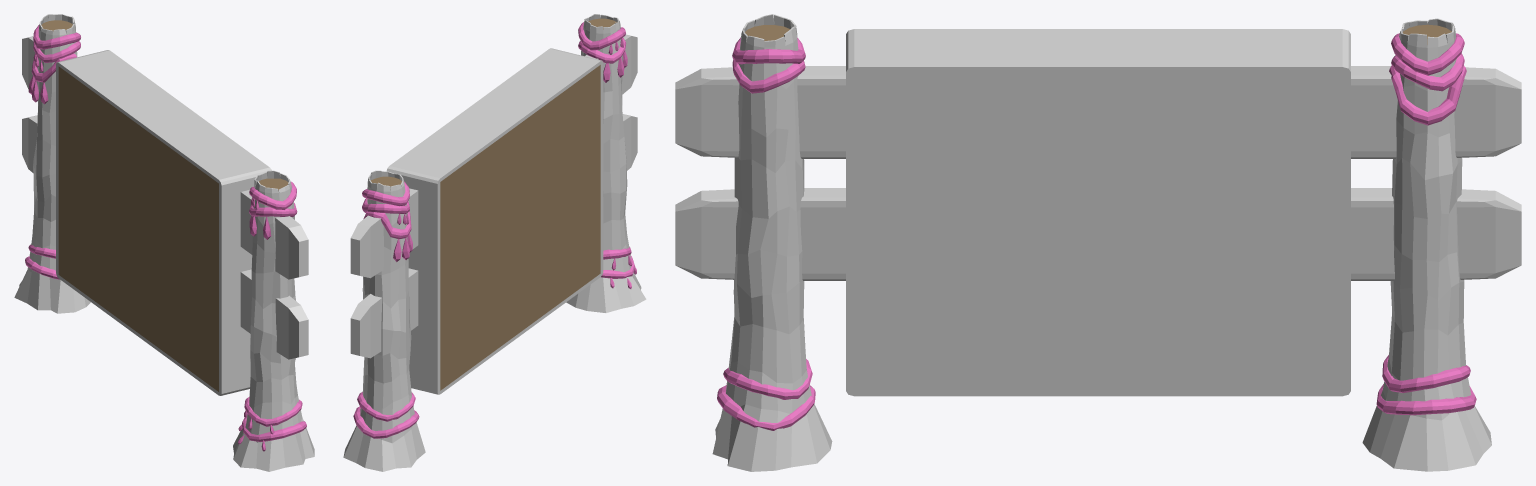
Rendered from TablonAnuncios.fbx.
3 views of the same model, side by side, from view 1: azimuth 30°, elevation 25°; view 2: azimuth 150°, elevation 25°; view 3: azimuth 270°, elevation 25° (orthographic). The views are drawn at different scales.
Parts seen in each view (by area): view 1: Cube, Cylinder, Cylinder.001, Cube.003, Cube.001, Torus.006, Torus.007, Torus.001, Torus, Torus.002, Torus.005, Torus.008; view 2: Cube, Cylinder.001, Cylinder, Cube.001, Cube.003, Torus.003, Torus.004, Torus.001, Torus, Torus.008, Torus.002, Torus.005; view 3: Cube, Cylinder, Cylinder.001, Cube.001, Cube.003, Torus.008, Torus.003, Torus.004, Torus.006, Torus, Torus.001, Torus.007 (+2 smaller).
Boxes of the visible parts, x1=… form: Cube: x1=56, y1=50, x2=271, y2=395; Cylinder: x1=233, y1=170, x2=314, y2=471; Cylinder.001: x1=14, y1=14, x2=90, y2=313; Cube.003: x1=22, y1=115, x2=308, y2=359; Cube.001: x1=22, y1=36, x2=308, y2=279; Torus.006: x1=242, y1=417, x2=306, y2=441; Torus.007: x1=244, y1=396, x2=302, y2=426; Torus.001: x1=249, y1=181, x2=296, y2=209; Torus: x1=33, y1=24, x2=80, y2=49; Torus.002: x1=33, y1=41, x2=80, y2=62; Torus.005: x1=249, y1=203, x2=297, y2=216; Torus.008: x1=31, y1=53, x2=76, y2=82; Cube: x1=386, y1=48, x2=603, y2=394; Cylinder.001: x1=343, y1=170, x2=425, y2=471; Cylinder: x1=566, y1=14, x2=646, y2=312; Cube.001: x1=350, y1=34, x2=637, y2=278; Cube.003: x1=350, y1=114, x2=637, y2=358; Torus.003: x1=353, y1=406, x2=419, y2=438; Torus.004: x1=357, y1=392, x2=415, y2=421; Torus.001: x1=578, y1=22, x2=625, y2=50; Torus: x1=362, y1=181, x2=409, y2=206; Torus.008: x1=363, y1=211, x2=411, y2=238; Torus.002: x1=362, y1=198, x2=409, y2=213; Torus.005: x1=578, y1=37, x2=626, y2=63; Cube: x1=846, y1=29, x2=1350, y2=396; Cylinder: x1=712, y1=14, x2=832, y2=471; Cylinder.001: x1=1362, y1=18, x2=1491, y2=471; Cube.001: x1=675, y1=66, x2=1521, y2=158; Cube.003: x1=675, y1=188, x2=1521, y2=280; Torus.008: x1=1389, y1=65, x2=1466, y2=125; Torus.003: x1=1376, y1=384, x2=1476, y2=415; Torus.004: x1=1382, y1=355, x2=1470, y2=392; Torus.006: x1=717, y1=385, x2=815, y2=430; Torus: x1=1391, y1=33, x2=1464, y2=75; Torus.001: x1=732, y1=37, x2=805, y2=64; Torus.007: x1=723, y1=359, x2=812, y2=399.
Size of the model in its own units: 307 by 1095 by 1993.
